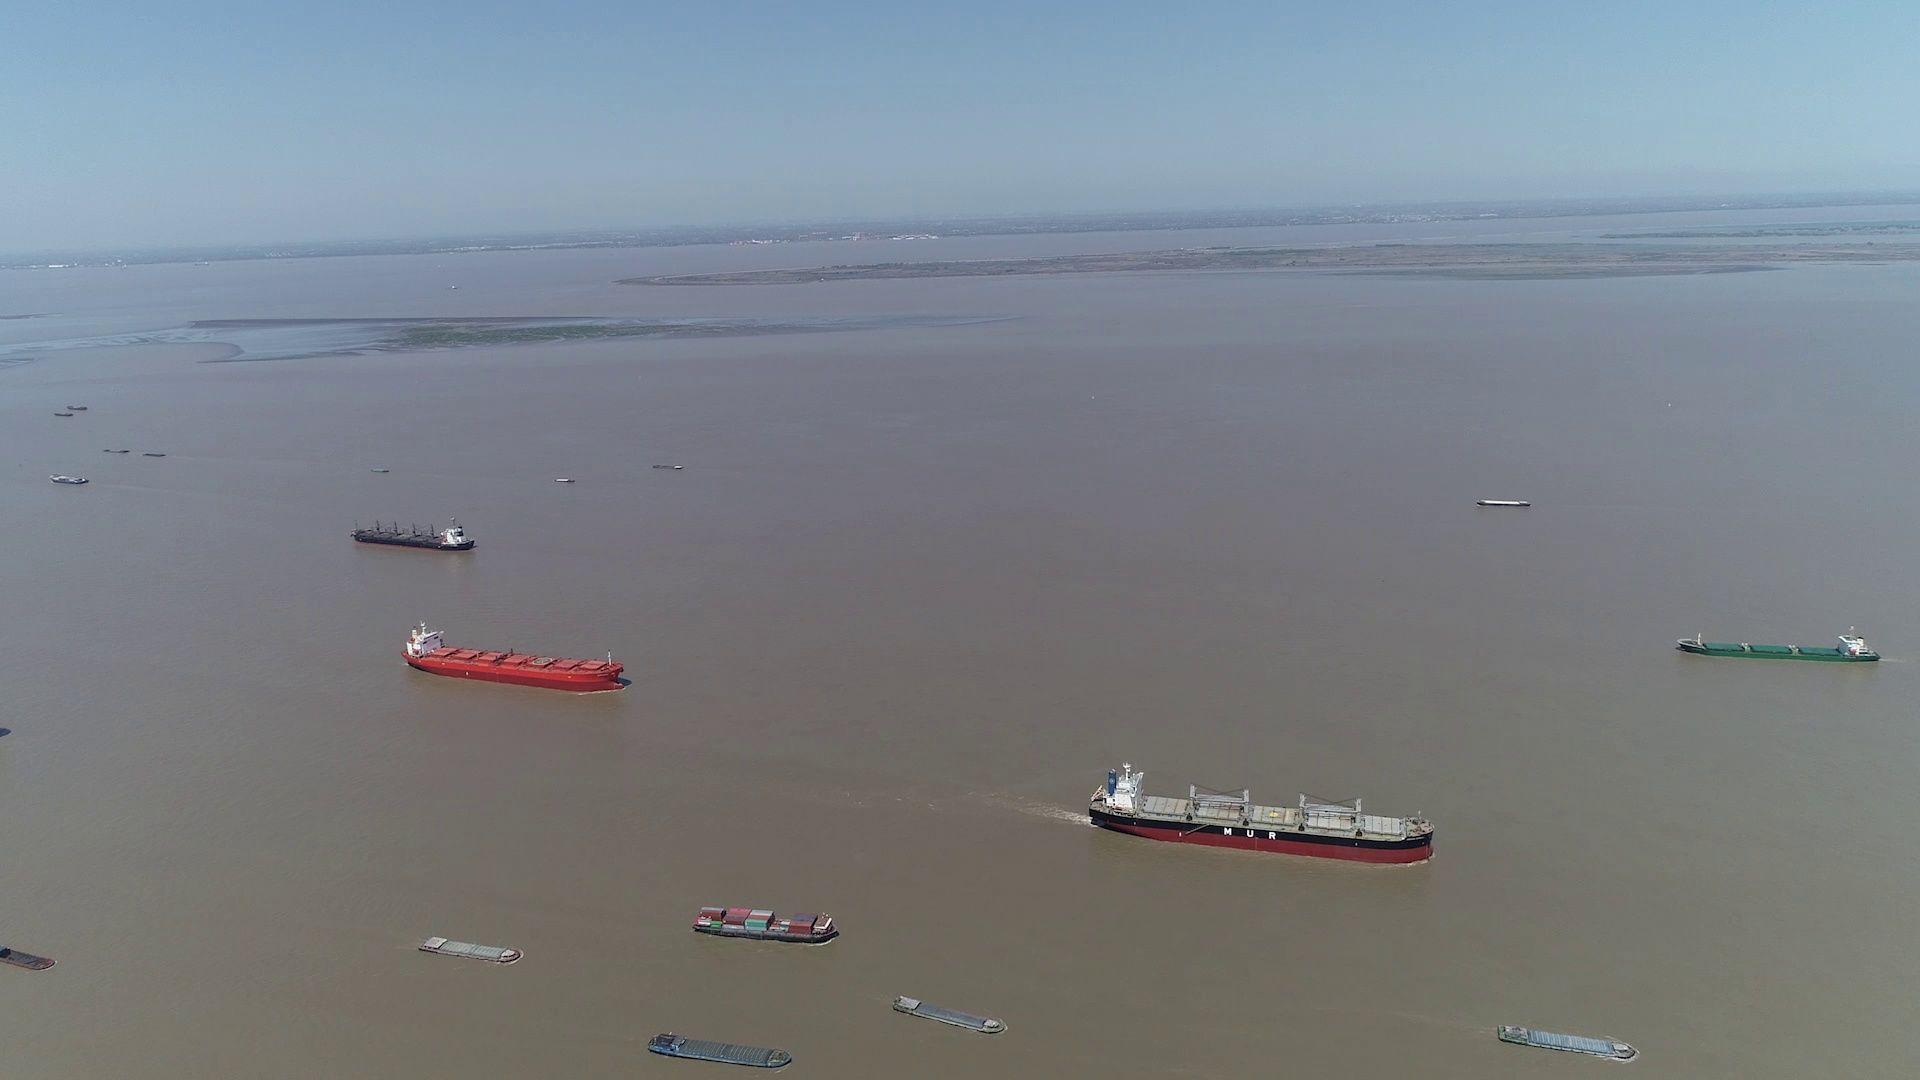ship: (1091, 766, 1433, 862), (402, 622, 622, 692), (1677, 626, 1880, 662), (692, 906, 837, 943), (650, 1033, 794, 1069), (1497, 1025, 1635, 1062), (891, 996, 1005, 1036), (351, 517, 477, 551), (418, 935, 520, 964), (0, 942, 54, 971), (1477, 498, 1531, 509), (49, 473, 90, 484)
